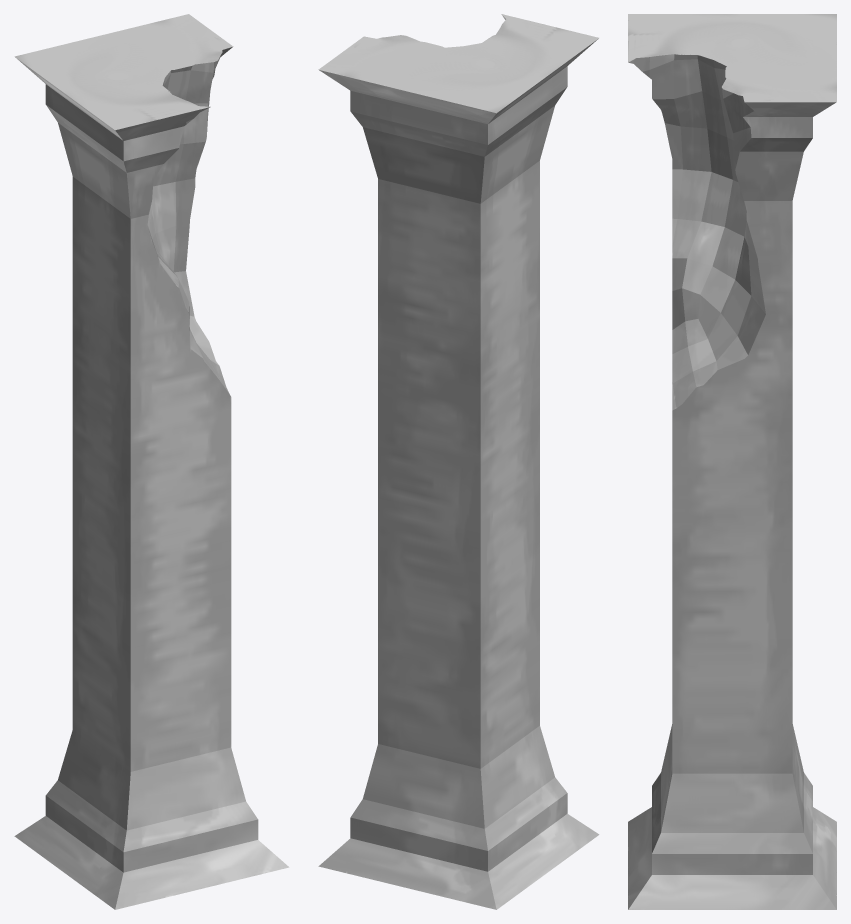
Rendered from hasarli_sutun.fbx.
3 renders of one model, left to right at view 1: azimuth 30°, elevation 25°; view 2: azimuth 150°, elevation 25°; view 3: azimuth 270°, elevation 25°, orthographic. The views are drawn at different scales.
Visible parts, largest first — view 1: hasarli_sutun; view 2: hasarli_sutun; view 3: hasarli_sutun.
Boxes of the visible parts, left/top/right/bottom form: hasarli_sutun: left=14, top=14, right=289, bottom=909; hasarli_sutun: left=318, top=14, right=599, bottom=909; hasarli_sutun: left=628, top=14, right=836, bottom=909.
Size of the model in its own units: 3.18 by 13.59 by 3.18.
1 material, 1 textured.
